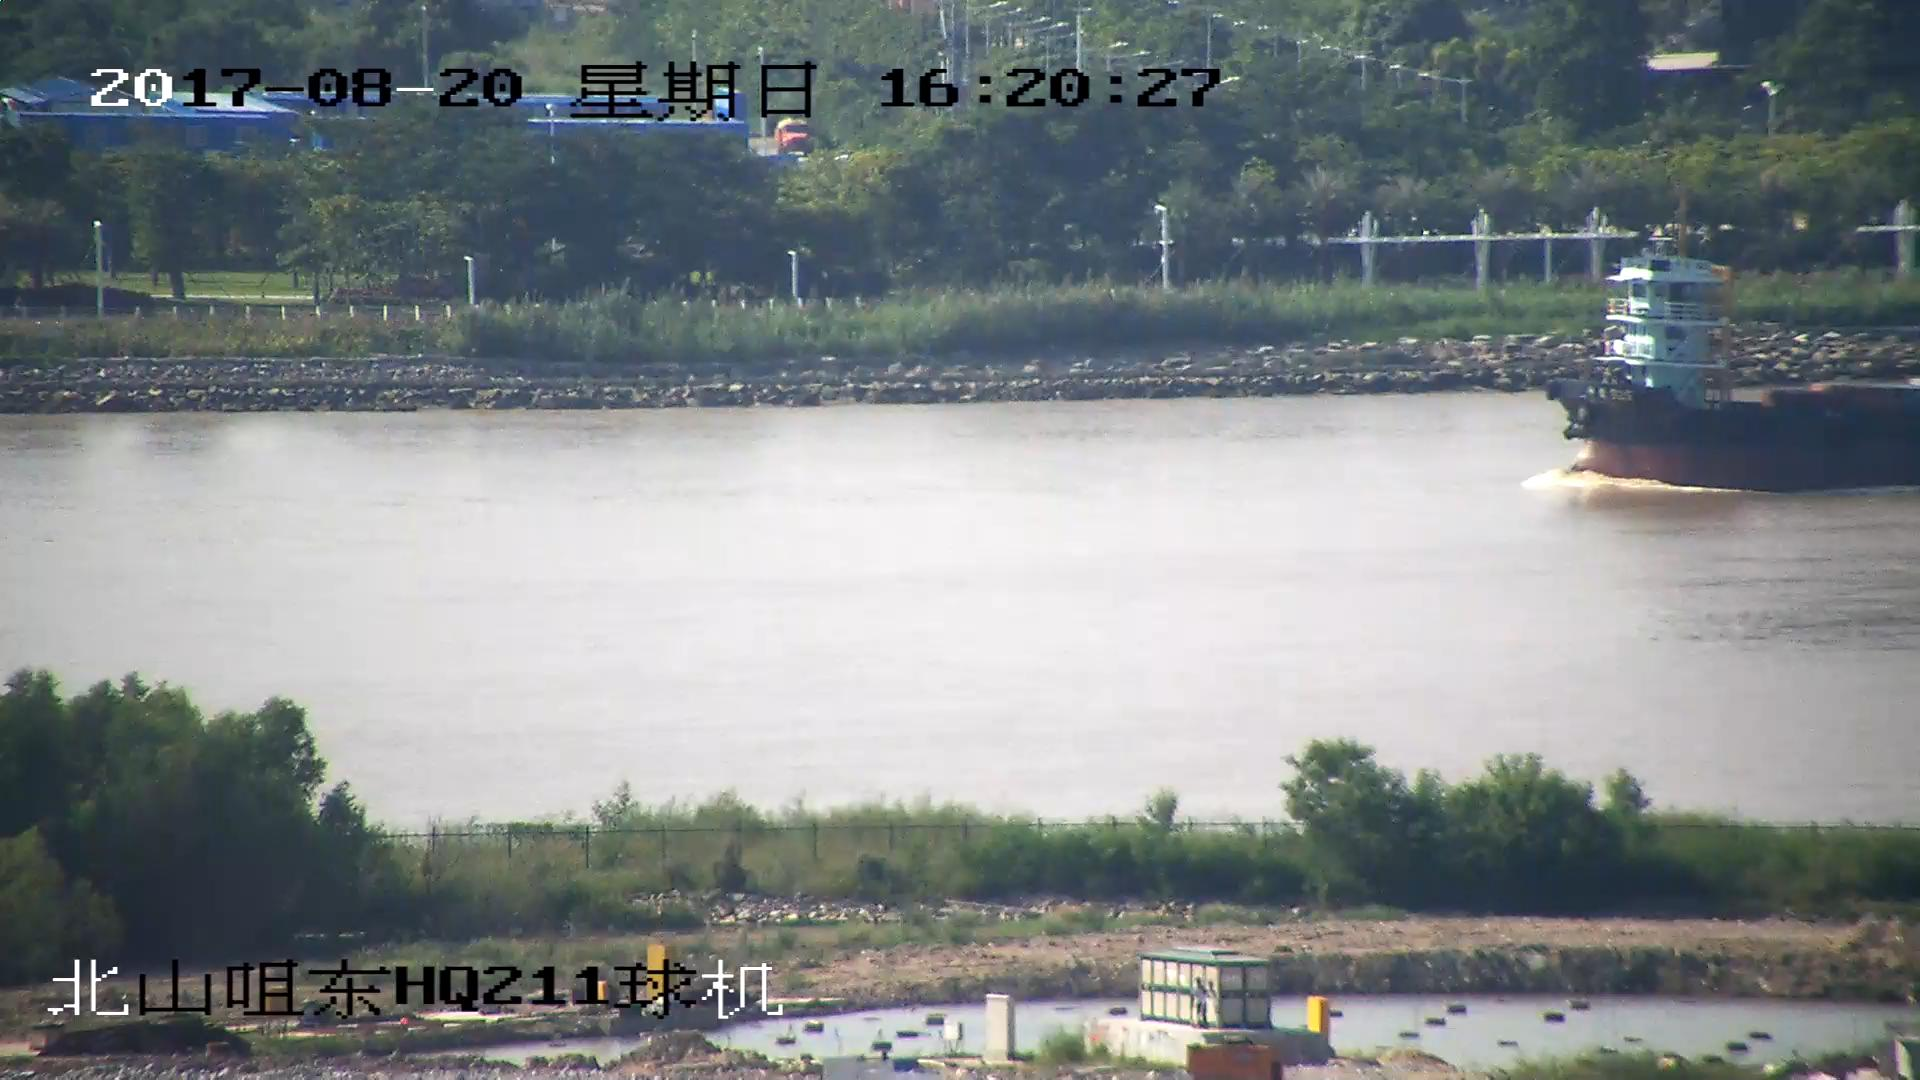container ship: (1537, 244, 1920, 491)
